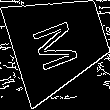M_E: (31, 12, 87, 72)
